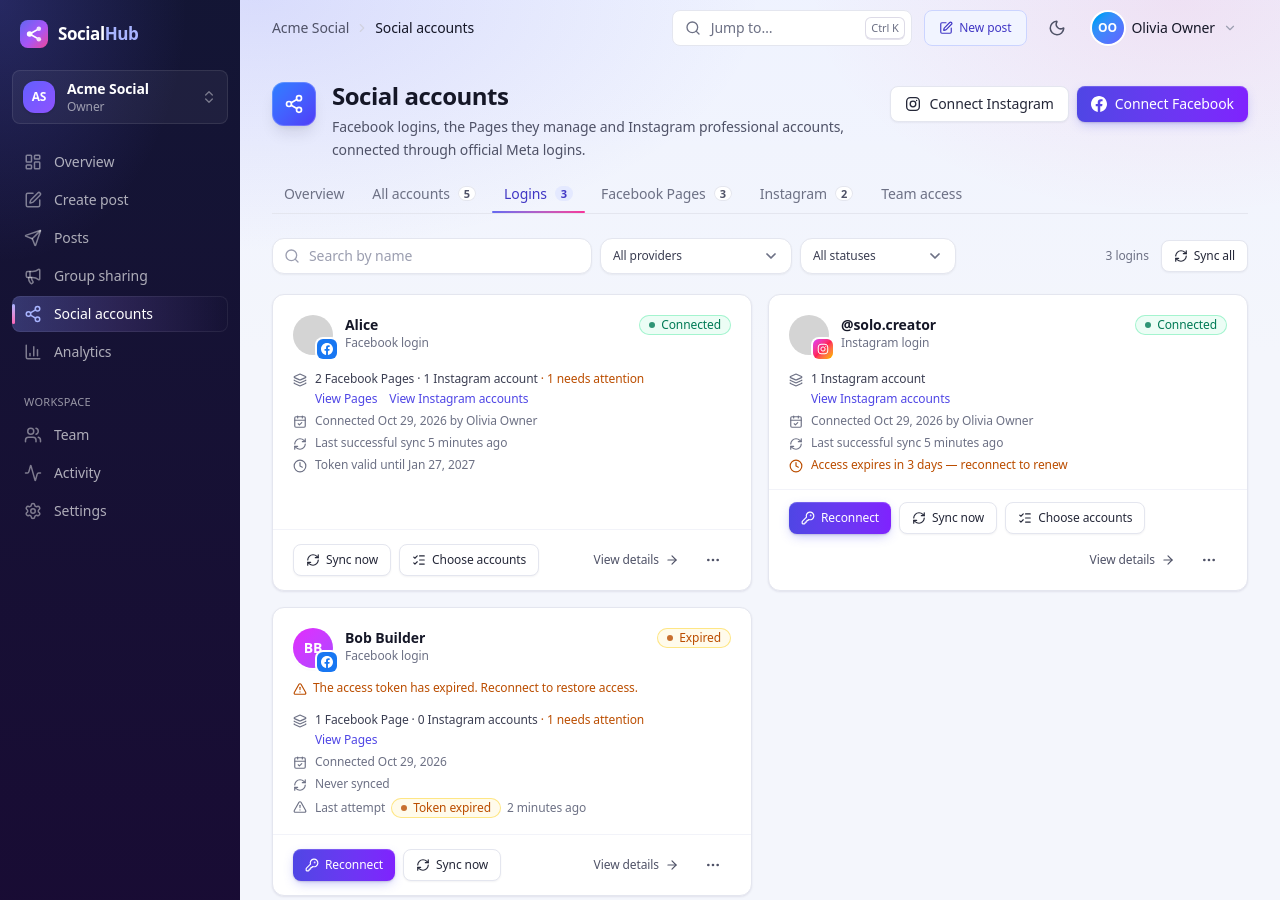
Logins tab › syncs every login and lists each outcome in a results dialog
Click the button "Sync all". click: point(1204, 256)
box: [1161,240,1248,272]
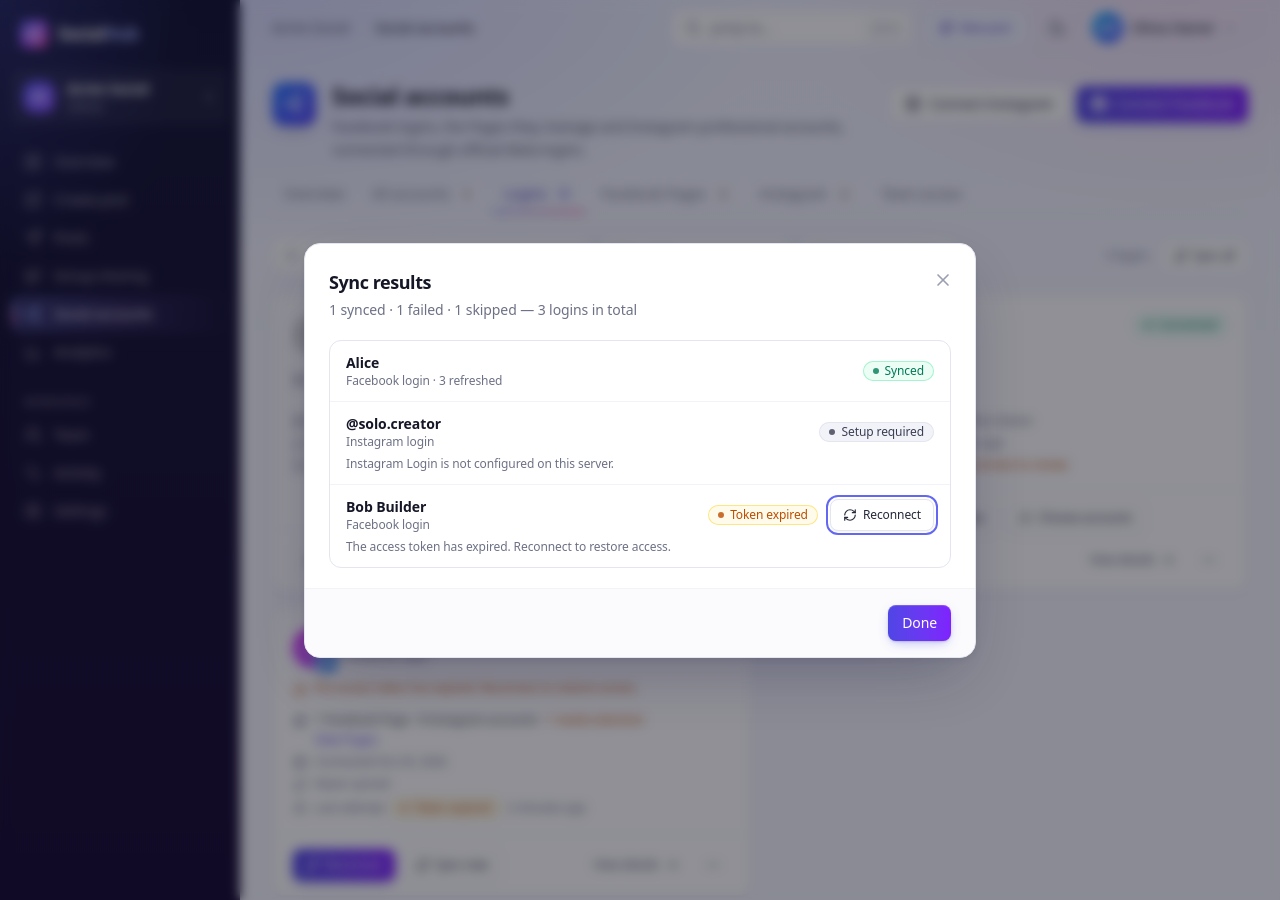
Check: the text "1 synced · 1 failed · 1 skipped — 3 logins in total" is shown, box [329,300,637,320]
Check: the text "Alice" is shown, box [346,352,379,372]
Check: the text "Synced" is shown, box [862,360,934,380]
